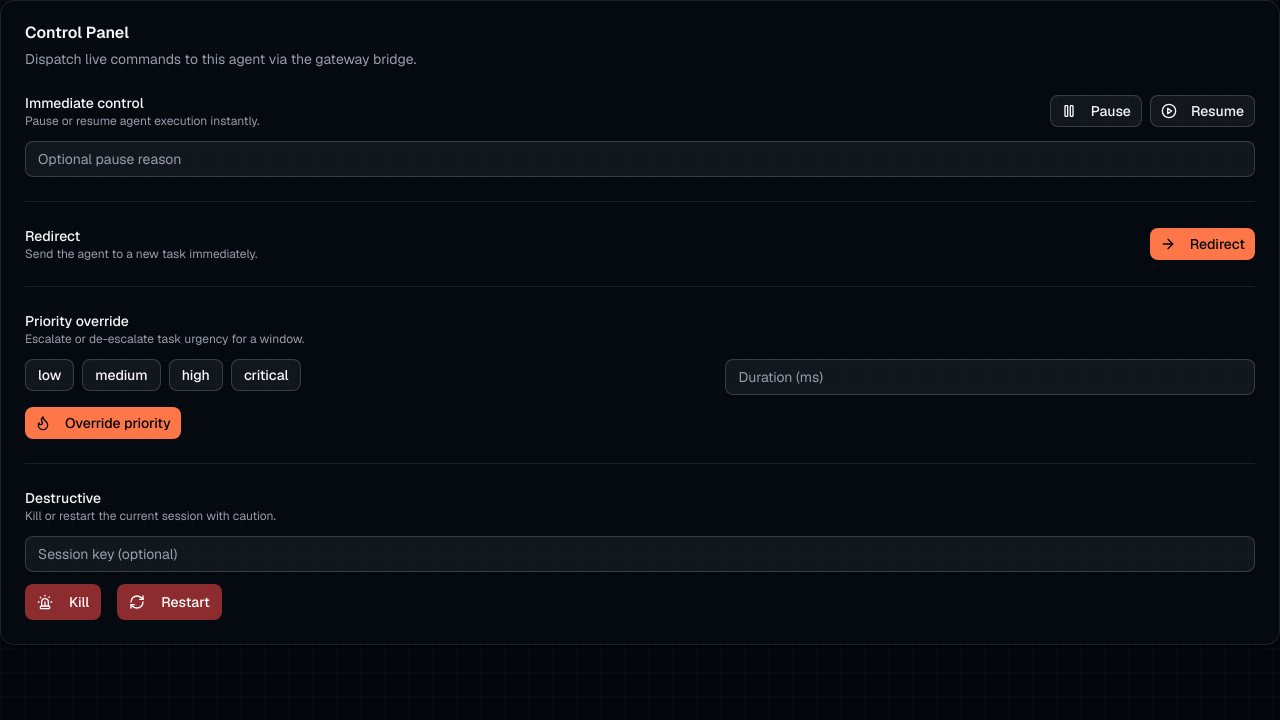
Test: ControlPanel › requires a priority override selection
Click the button "Override priority" at (103, 423), box [25,407,181,439]
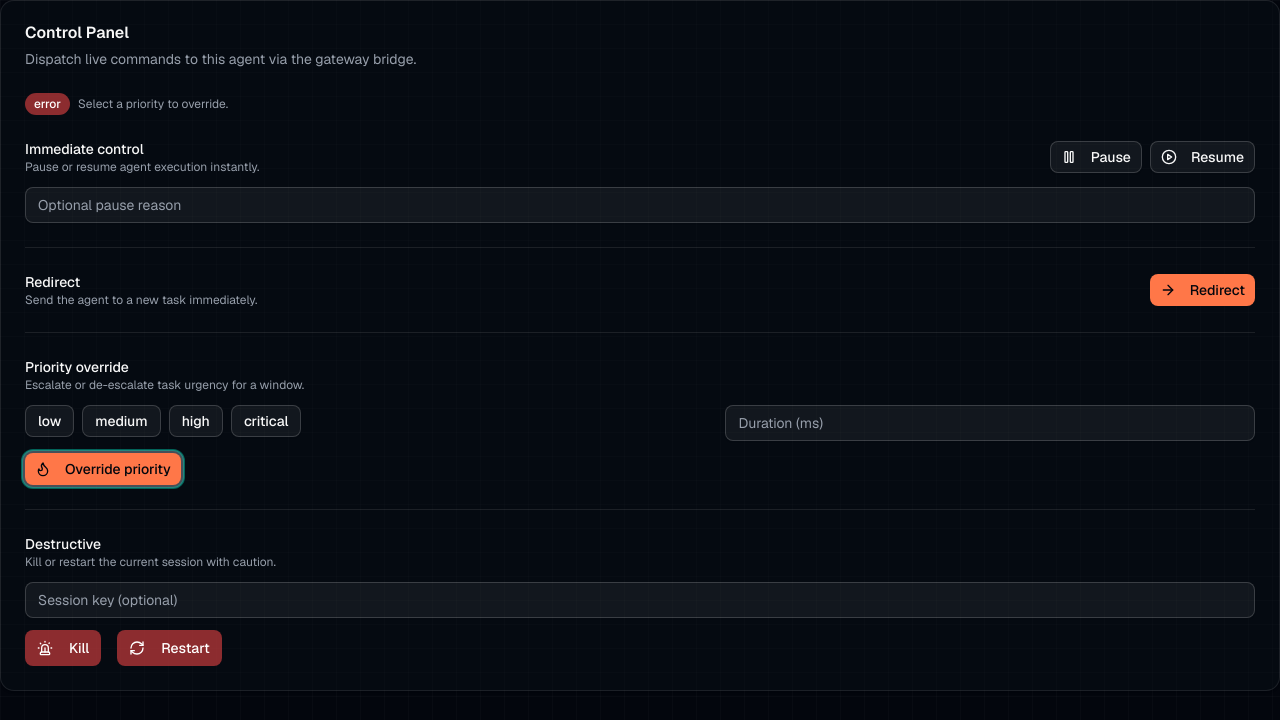
Expected: the text "Select a priority to override." is shown, [78,96,228,112]
